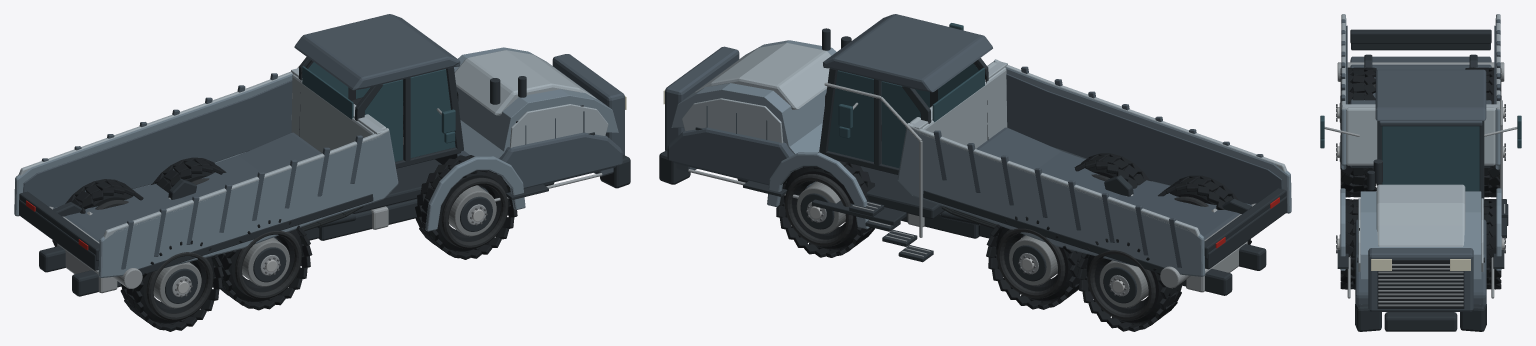
Rendered from cat-725-structural-study.glb.
The picture shows the model from 3 angles, left to right: view 1: azimuth 30°, elevation 25°; view 2: azimuth 150°, elevation 25°; view 3: azimuth 270°, elevation 25°; orthographic projection. The views are drawn at different scales.
Visible parts, largest first — view 1: Dump_Body_Side_R, Dump_Body_Inner_L, Cab_Roof, Dump_Body_Scow_Underbody, Engine_Hood_Main, Engine_Hood_Lower_Step, Engine_Hood_Crown, Dump_Body_Front_Headboard, Cab_Right_Front_Glass, Hood_Service_Door_R, Dump_Body_Side_L, Front_Fender_Arch_R (+31 smaller); view 2: Dump_Body_Side_L, Dump_Body_Inner_R, Cab_Roof, Dump_Body_Scow_Underbody, Engine_Hood_Crown, Engine_Hood_Lower_Step, Engine_Hood_Main, Dump_Body_Front_Headboard, Cab_Left_Front_Glass, Hood_Service_Door_L, Dump_Body_Side_R, Front_Grille_Frame (+32 smaller); view 3: Cab_Front_Glass, Cab_Roof, Engine_Hood_Crown, Front_Grille, Engine_Hood_Main, Dump_Body_Front_Headboard, Front_Grille_Frame, Rear_Light_Bar, Dump_Body_Scow_Underbody, Front_Bumper_Center, Engine_Hood_Lower_Step, Dump_Body_Rear_Rock_Lip (+33 smaller).
Boxes of the visible parts, x1=… form: Dump_Body_Side_R: x1=98, y1=130, x2=398, y2=277; Dump_Body_Inner_L: x1=23, y1=80, x2=292, y2=207; Cab_Roof: x1=294, y1=14, x2=460, y2=90; Dump_Body_Scow_Underbody: x1=53, y1=132, x2=321, y2=241; Engine_Hood_Main: x1=454, y1=47, x2=618, y2=158; Engine_Hood_Lower_Step: x1=457, y1=132, x2=622, y2=192; Engine_Hood_Crown: x1=454, y1=50, x2=595, y2=115; Dump_Body_Front_Headboard: x1=291, y1=74, x2=386, y2=153; Cab_Right_Front_Glass: x1=410, y1=69, x2=455, y2=157; Hood_Service_Door_R: x1=510, y1=104, x2=608, y2=147; Dump_Body_Side_L: x1=14, y1=73, x2=292, y2=216; Front_Fender_Arch_R: x1=425, y1=156, x2=525, y2=231; Dump_Body_Side_L: x1=897, y1=128, x2=1205, y2=276; Dump_Body_Inner_R: x1=1006, y1=74, x2=1282, y2=204; Cab_Roof: x1=823, y1=14, x2=992, y2=92; Dump_Body_Scow_Underbody: x1=976, y1=127, x2=1251, y2=239; Engine_Hood_Crown: x1=695, y1=43, x2=831, y2=109; Engine_Hood_Lower_Step: x1=667, y1=127, x2=815, y2=189; Engine_Hood_Main: x1=671, y1=40, x2=836, y2=154; Dump_Body_Front_Headboard: x1=910, y1=62, x2=1007, y2=148; Cab_Left_Front_Glass: x1=828, y1=70, x2=873, y2=161; Hood_Service_Door_L: x1=682, y1=98, x2=783, y2=143; Dump_Body_Side_R: x1=993, y1=61, x2=1291, y2=213; Front_Grille_Frame: x1=665, y1=46, x2=739, y2=150; Cab_Front_Glass: x1=1382, y1=126, x2=1479, y2=191; Cab_Roof: x1=1375, y1=69, x2=1486, y2=120; Engine_Hood_Crown: x1=1376, y1=184, x2=1465, y2=246; Front_Grille: x1=1377, y1=260, x2=1464, y2=308; Engine_Hood_Main: x1=1360, y1=191, x2=1481, y2=279; Dump_Body_Front_Headboard: x1=1346, y1=107, x2=1495, y2=165; Front_Grille_Frame: x1=1368, y1=248, x2=1473, y2=311; Rear_Light_Bar: x1=1350, y1=29, x2=1491, y2=43; Dump_Body_Scow_Underbody: x1=1350, y1=56, x2=1491, y2=167; Front_Bumper_Center: x1=1384, y1=312, x2=1457, y2=331; Engine_Hood_Lower_Step: x1=1355, y1=219, x2=1486, y2=305; Dump_Body_Rear_Rock_Lip: x1=1351, y1=43, x2=1490, y2=50.
Size of the model in its own units: 10.45 by 3.5 by 3.68.
